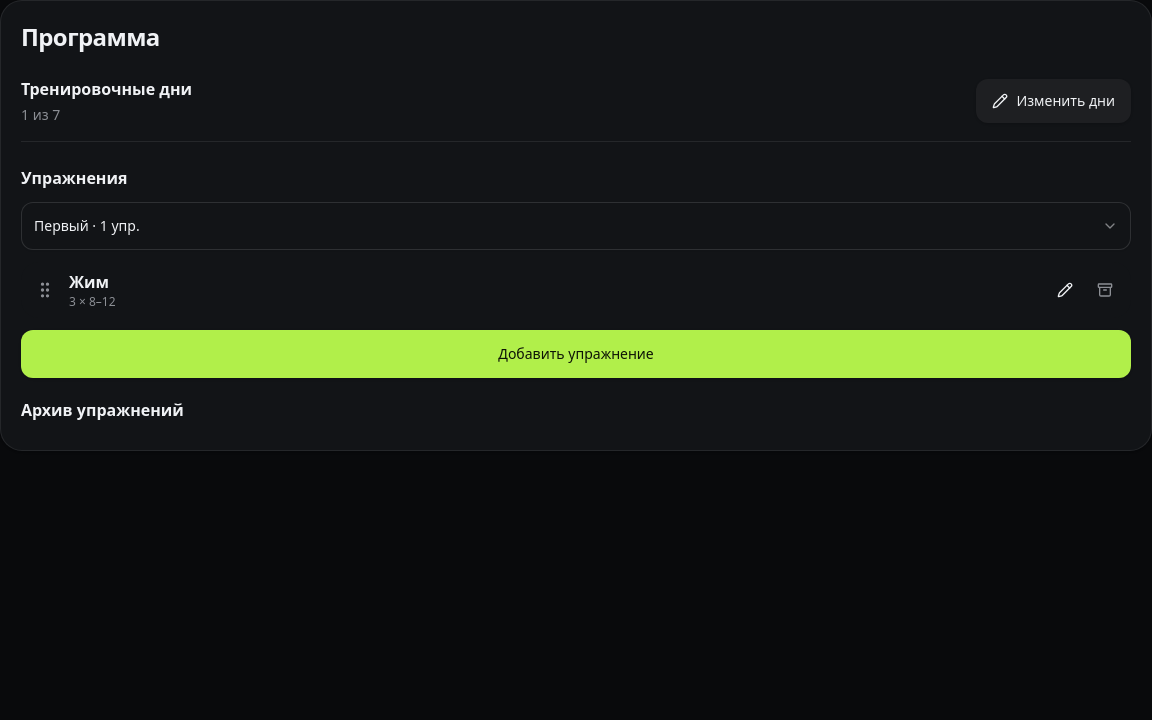
it: rejects invalid exercise targets without writing
Click the button named "Редактировать: Жим" at (1065, 290), box [1047,272,1083,308]
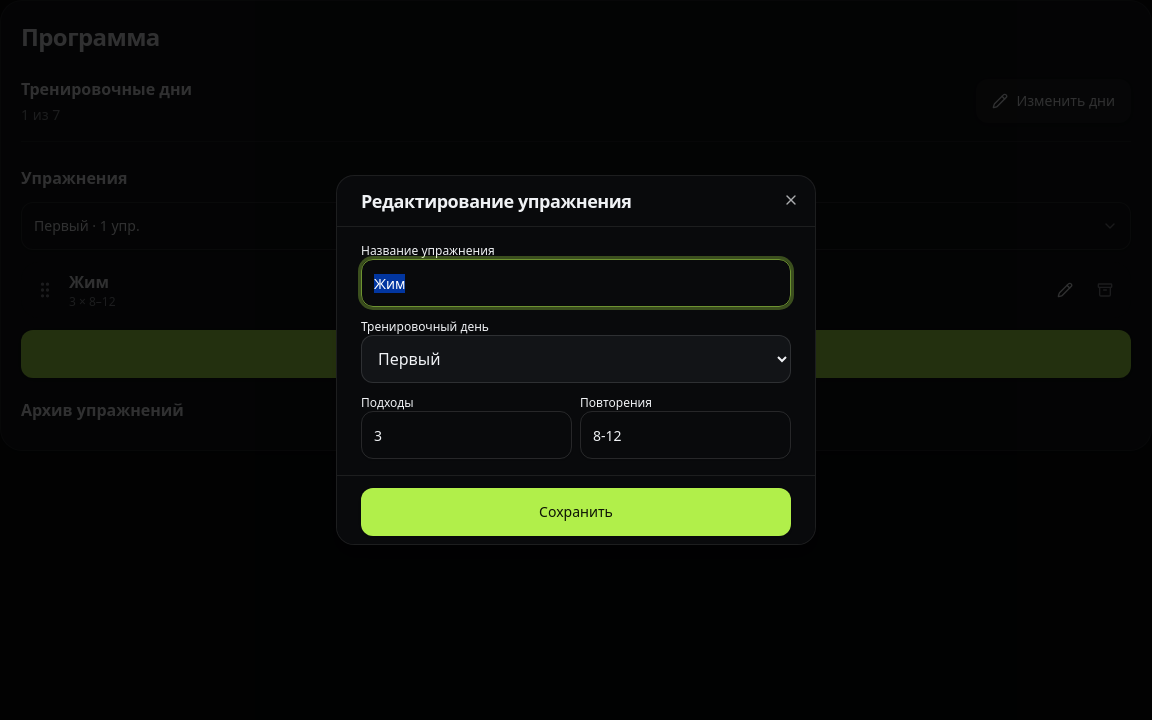
Replace the text in the field labelled "Подходы" with "3abc" at (466, 435), box [361,411,572,459]
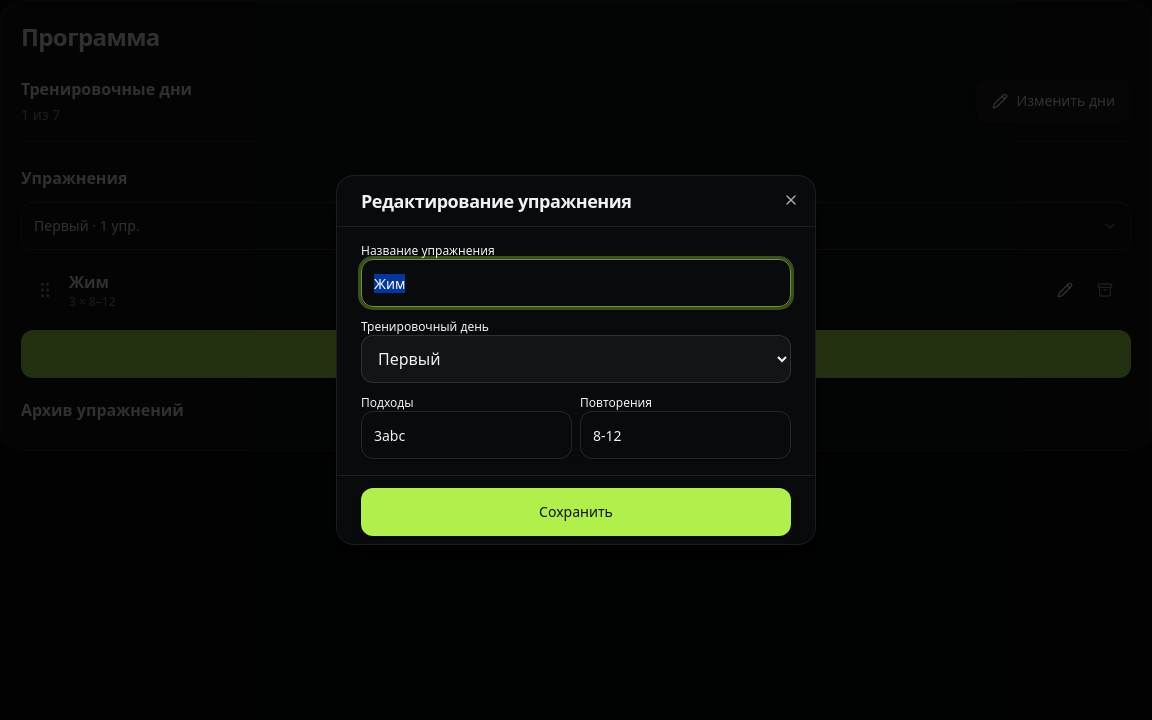
Click the button "Сохранить" at (576, 512), box [361,488,791,536]
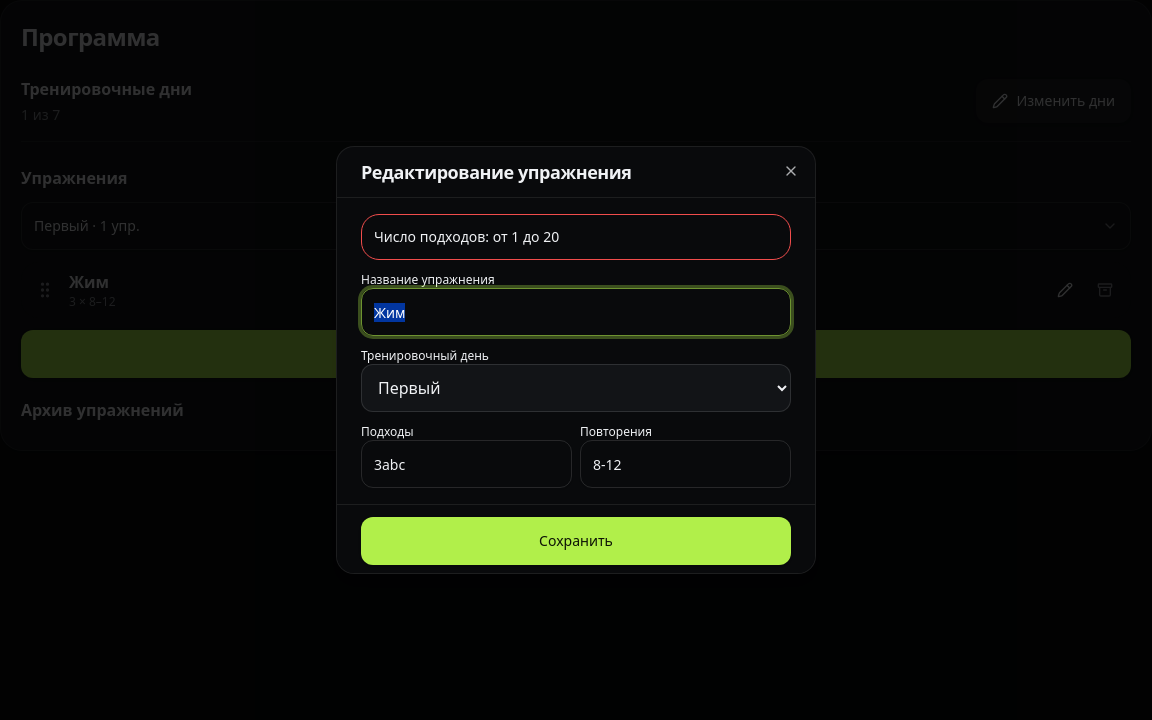
Expected: the message shows "Число подходов", [374,227,559,246]
